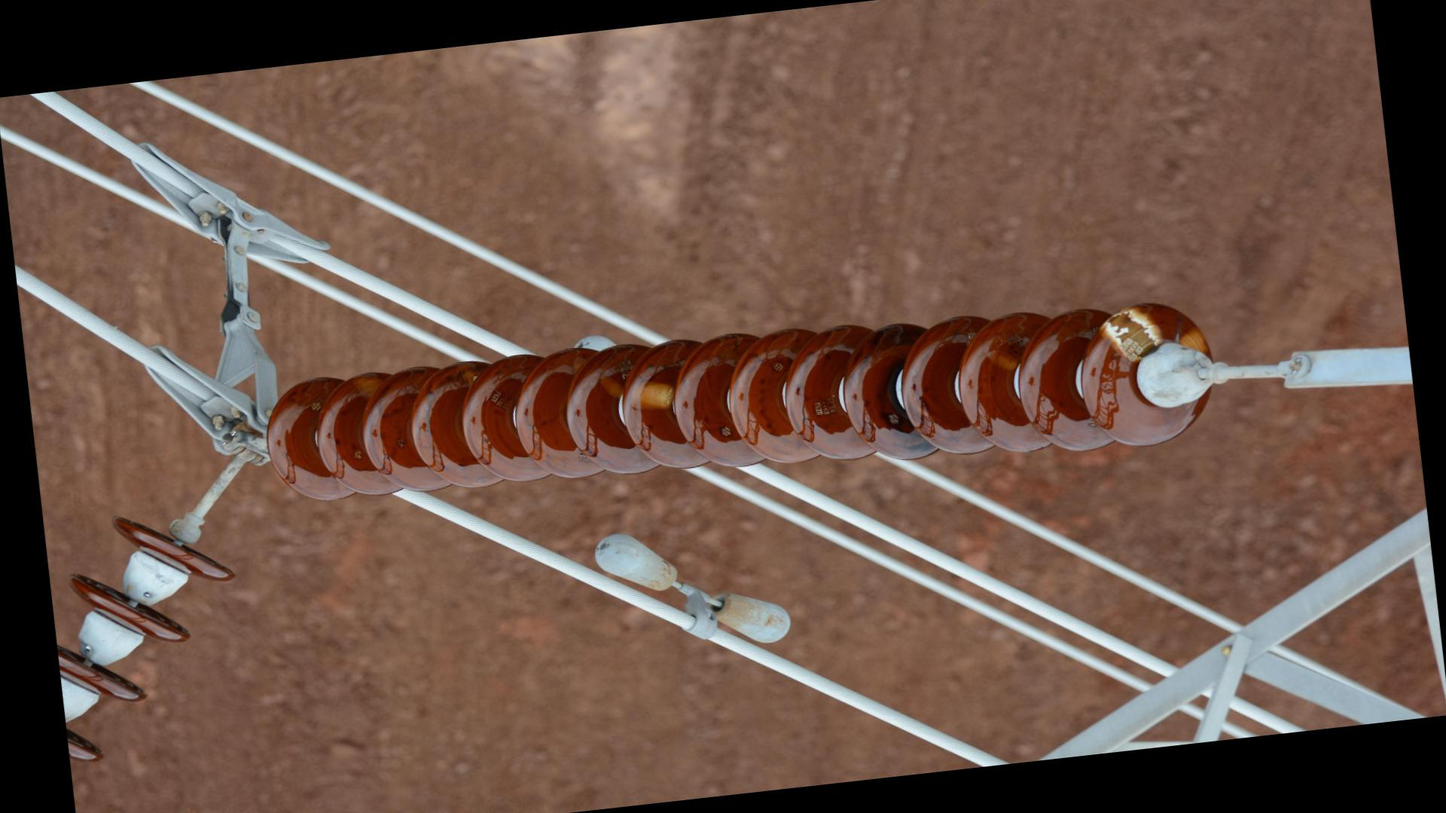damper: (588, 512, 798, 667)
